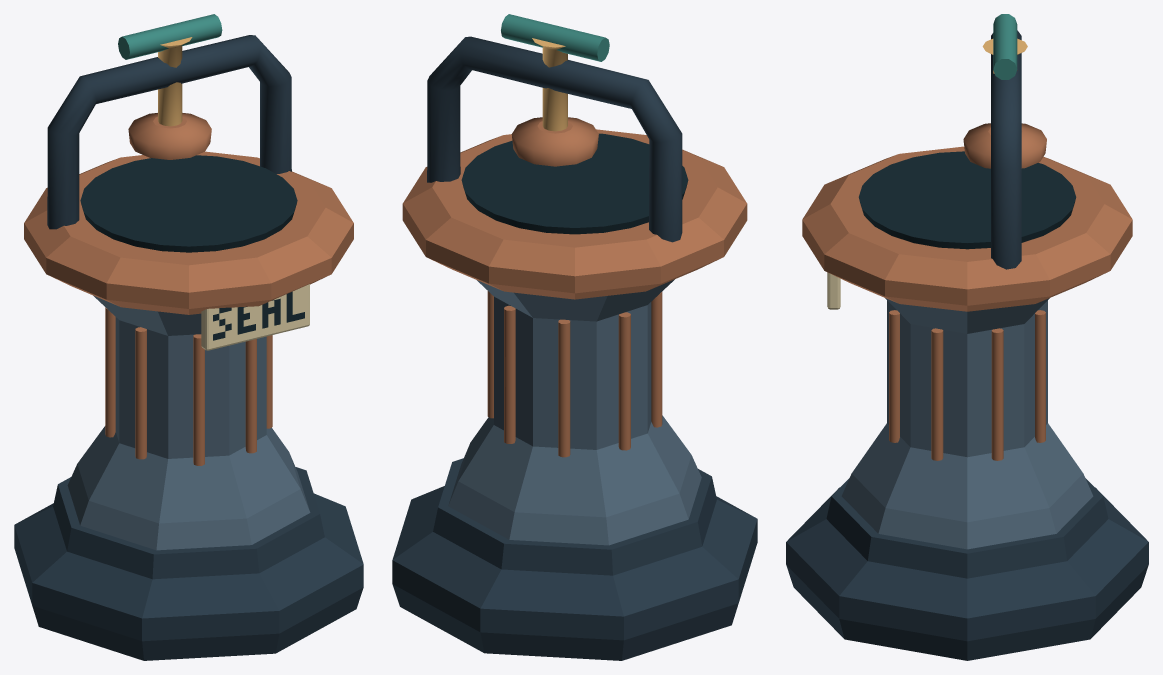
The picture shows the model from 3 angles, left to right: view 1: azimuth 30°, elevation 25°; view 2: azimuth 150°, elevation 25°; view 3: azimuth 270°, elevation 25°; orthographic projection. The views are drawn at different scales.
Visible parts, largest first — view 1: PR118 enamel and hardware; view 2: PR118 enamel and hardware; view 3: PR118 enamel and hardware.
Boxes of the visible parts, bbox=[...] form: PR118 enamel and hardware: bbox=[14, 14, 363, 660]; PR118 enamel and hardware: bbox=[392, 14, 757, 660]; PR118 enamel and hardware: bbox=[786, 14, 1148, 660].
Size of the model in its own units: 0.7 by 1.17 by 0.7.
